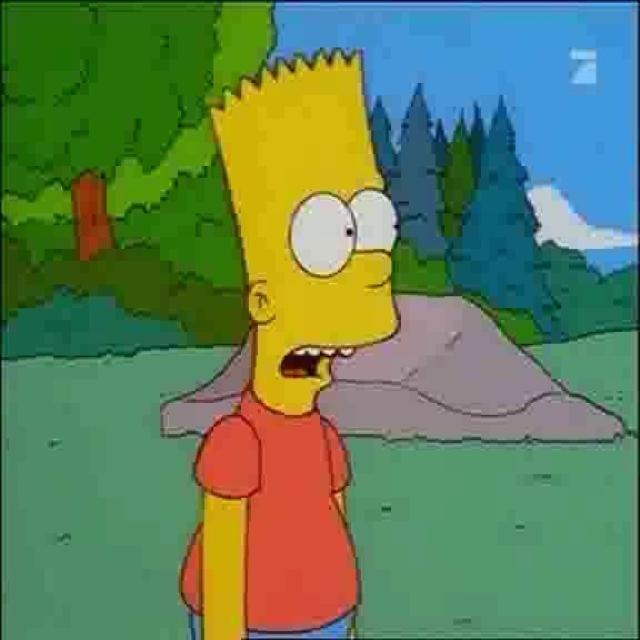Bart Simpson: (206, 44, 401, 418)
